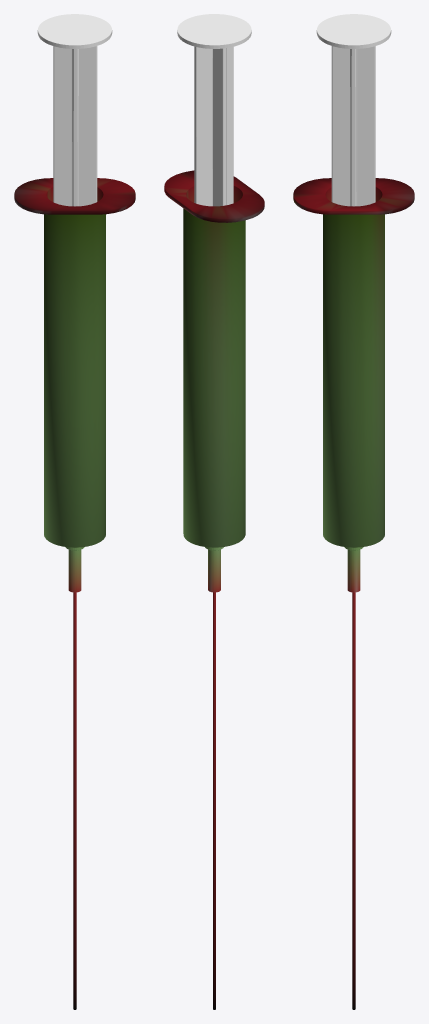
The model's file is needle.fbx.
3 views of the same model, side by side, from view 1: azimuth 90°, elevation 25°; view 2: azimuth 210°, elevation 25°; view 3: azimuth 270°, elevation 25° (orthographic).
Visible parts, largest first — view 1: Circle; view 2: Circle; view 3: Circle.
Part boxes in pixels (bbox=[...]): Circle: bbox=[14, 14, 135, 1009]; Circle: bbox=[164, 14, 264, 1009]; Circle: bbox=[293, 14, 414, 1009].
Bounding box in the file's own units: 50.98 × 708 × 79.59.
